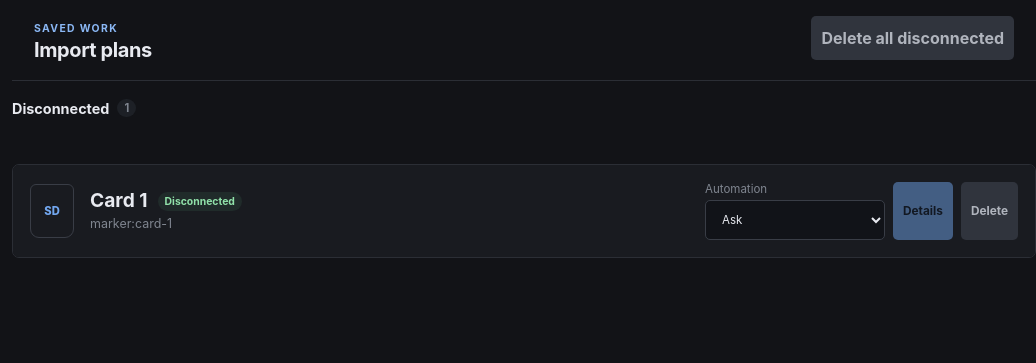
Test: PlansPanel › keeps disconnected plans visible and lets the user retry bulk deletion
Click the button "Delete all disconnected" at (913, 38), box [812,16,1014,60]
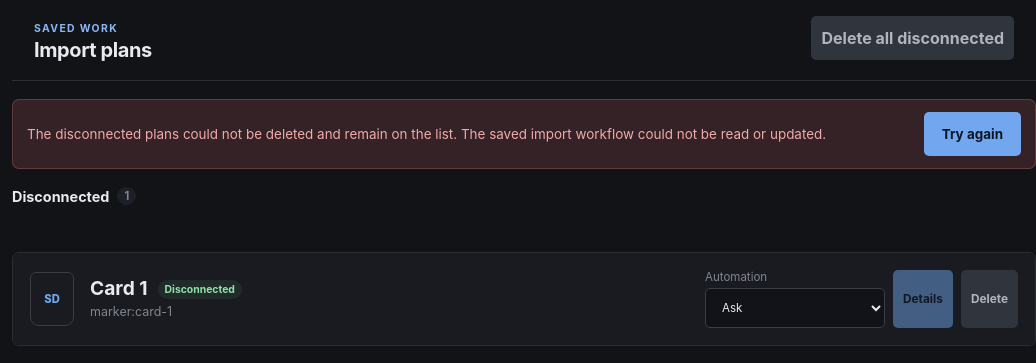
Expected: the heading "Card 1" is shown, [90,276,148,300]
Expected: the text "disconnected plans could not be deleted and remain on the list" is shown, [27,126,826,142]
Click the button "Try again" at (972, 134), box [924,112,1021,156]
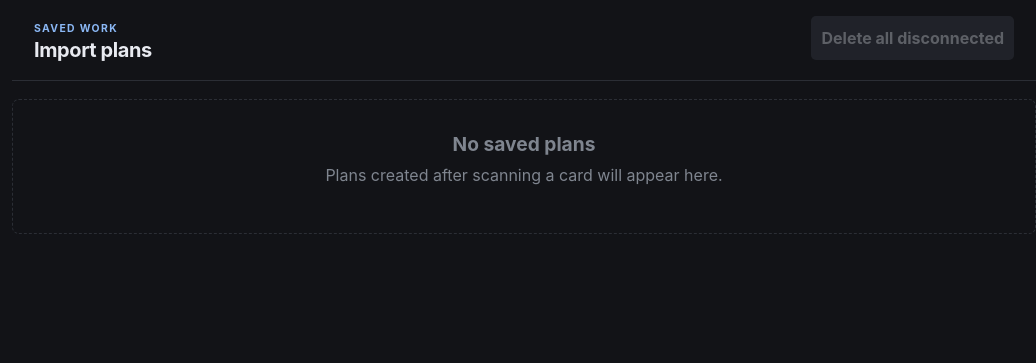
Expected: the heading "No saved plans" is shown, [453,132,596,156]
